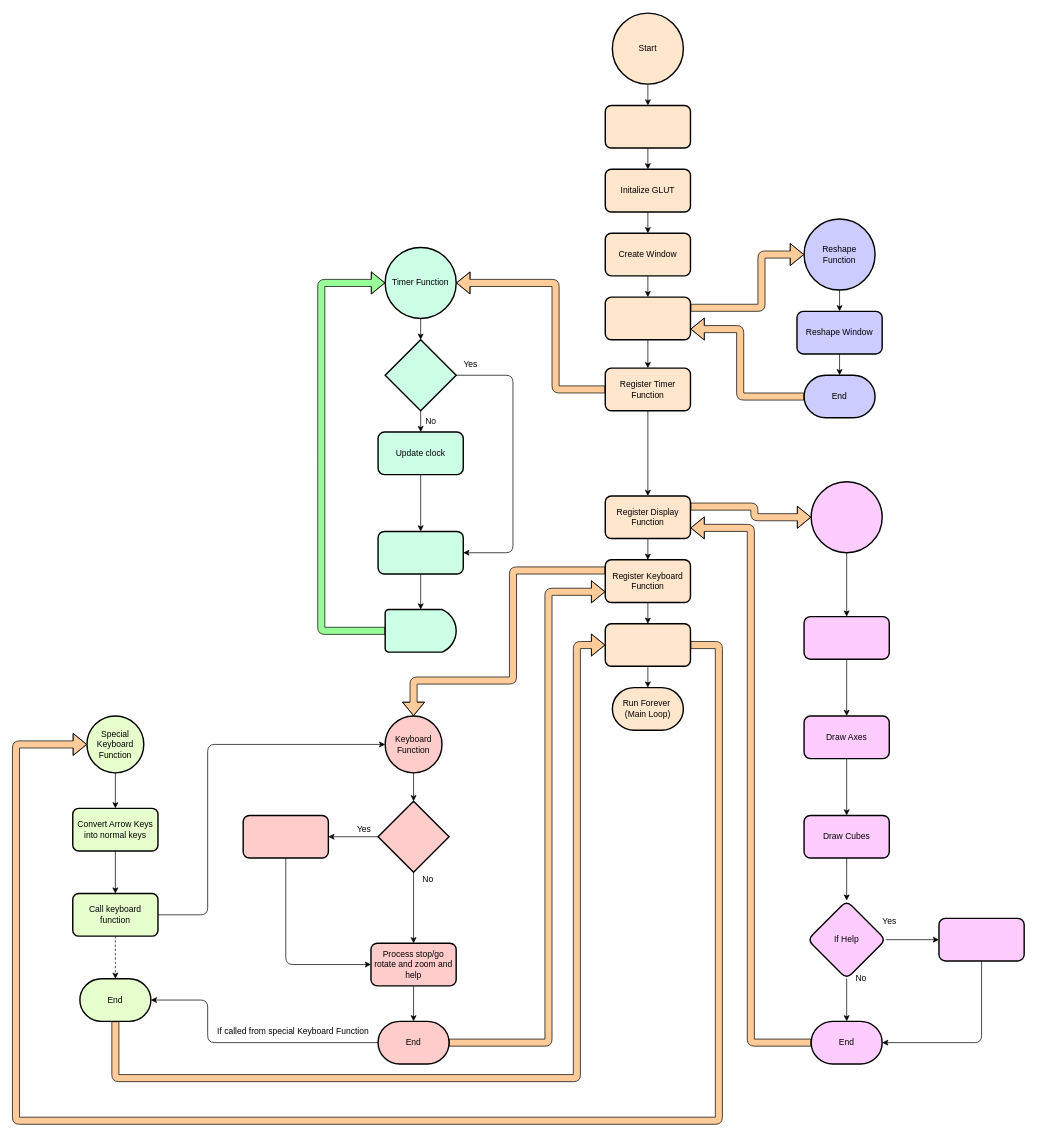
The diagram is 1037 pixels wide and 1137 high, and some of its shapes have lost their labels. Here are the shapes that lost their labels. From the top down, the centre of each, then its label:
point (647, 126): Set default values
point (647, 318): Register Reshape function
point (420, 375): Is animation stopped?
point (846, 517): Display Function
point (420, 552): Reposition camera
point (420, 630): Run function again after delay
point (647, 645): Register Special Keyboard Function
point (846, 638): Draw Planes outside
point (285, 836): Process Up, Down, Left, Right
point (413, 836): If Stop
point (981, 939): Display Help
